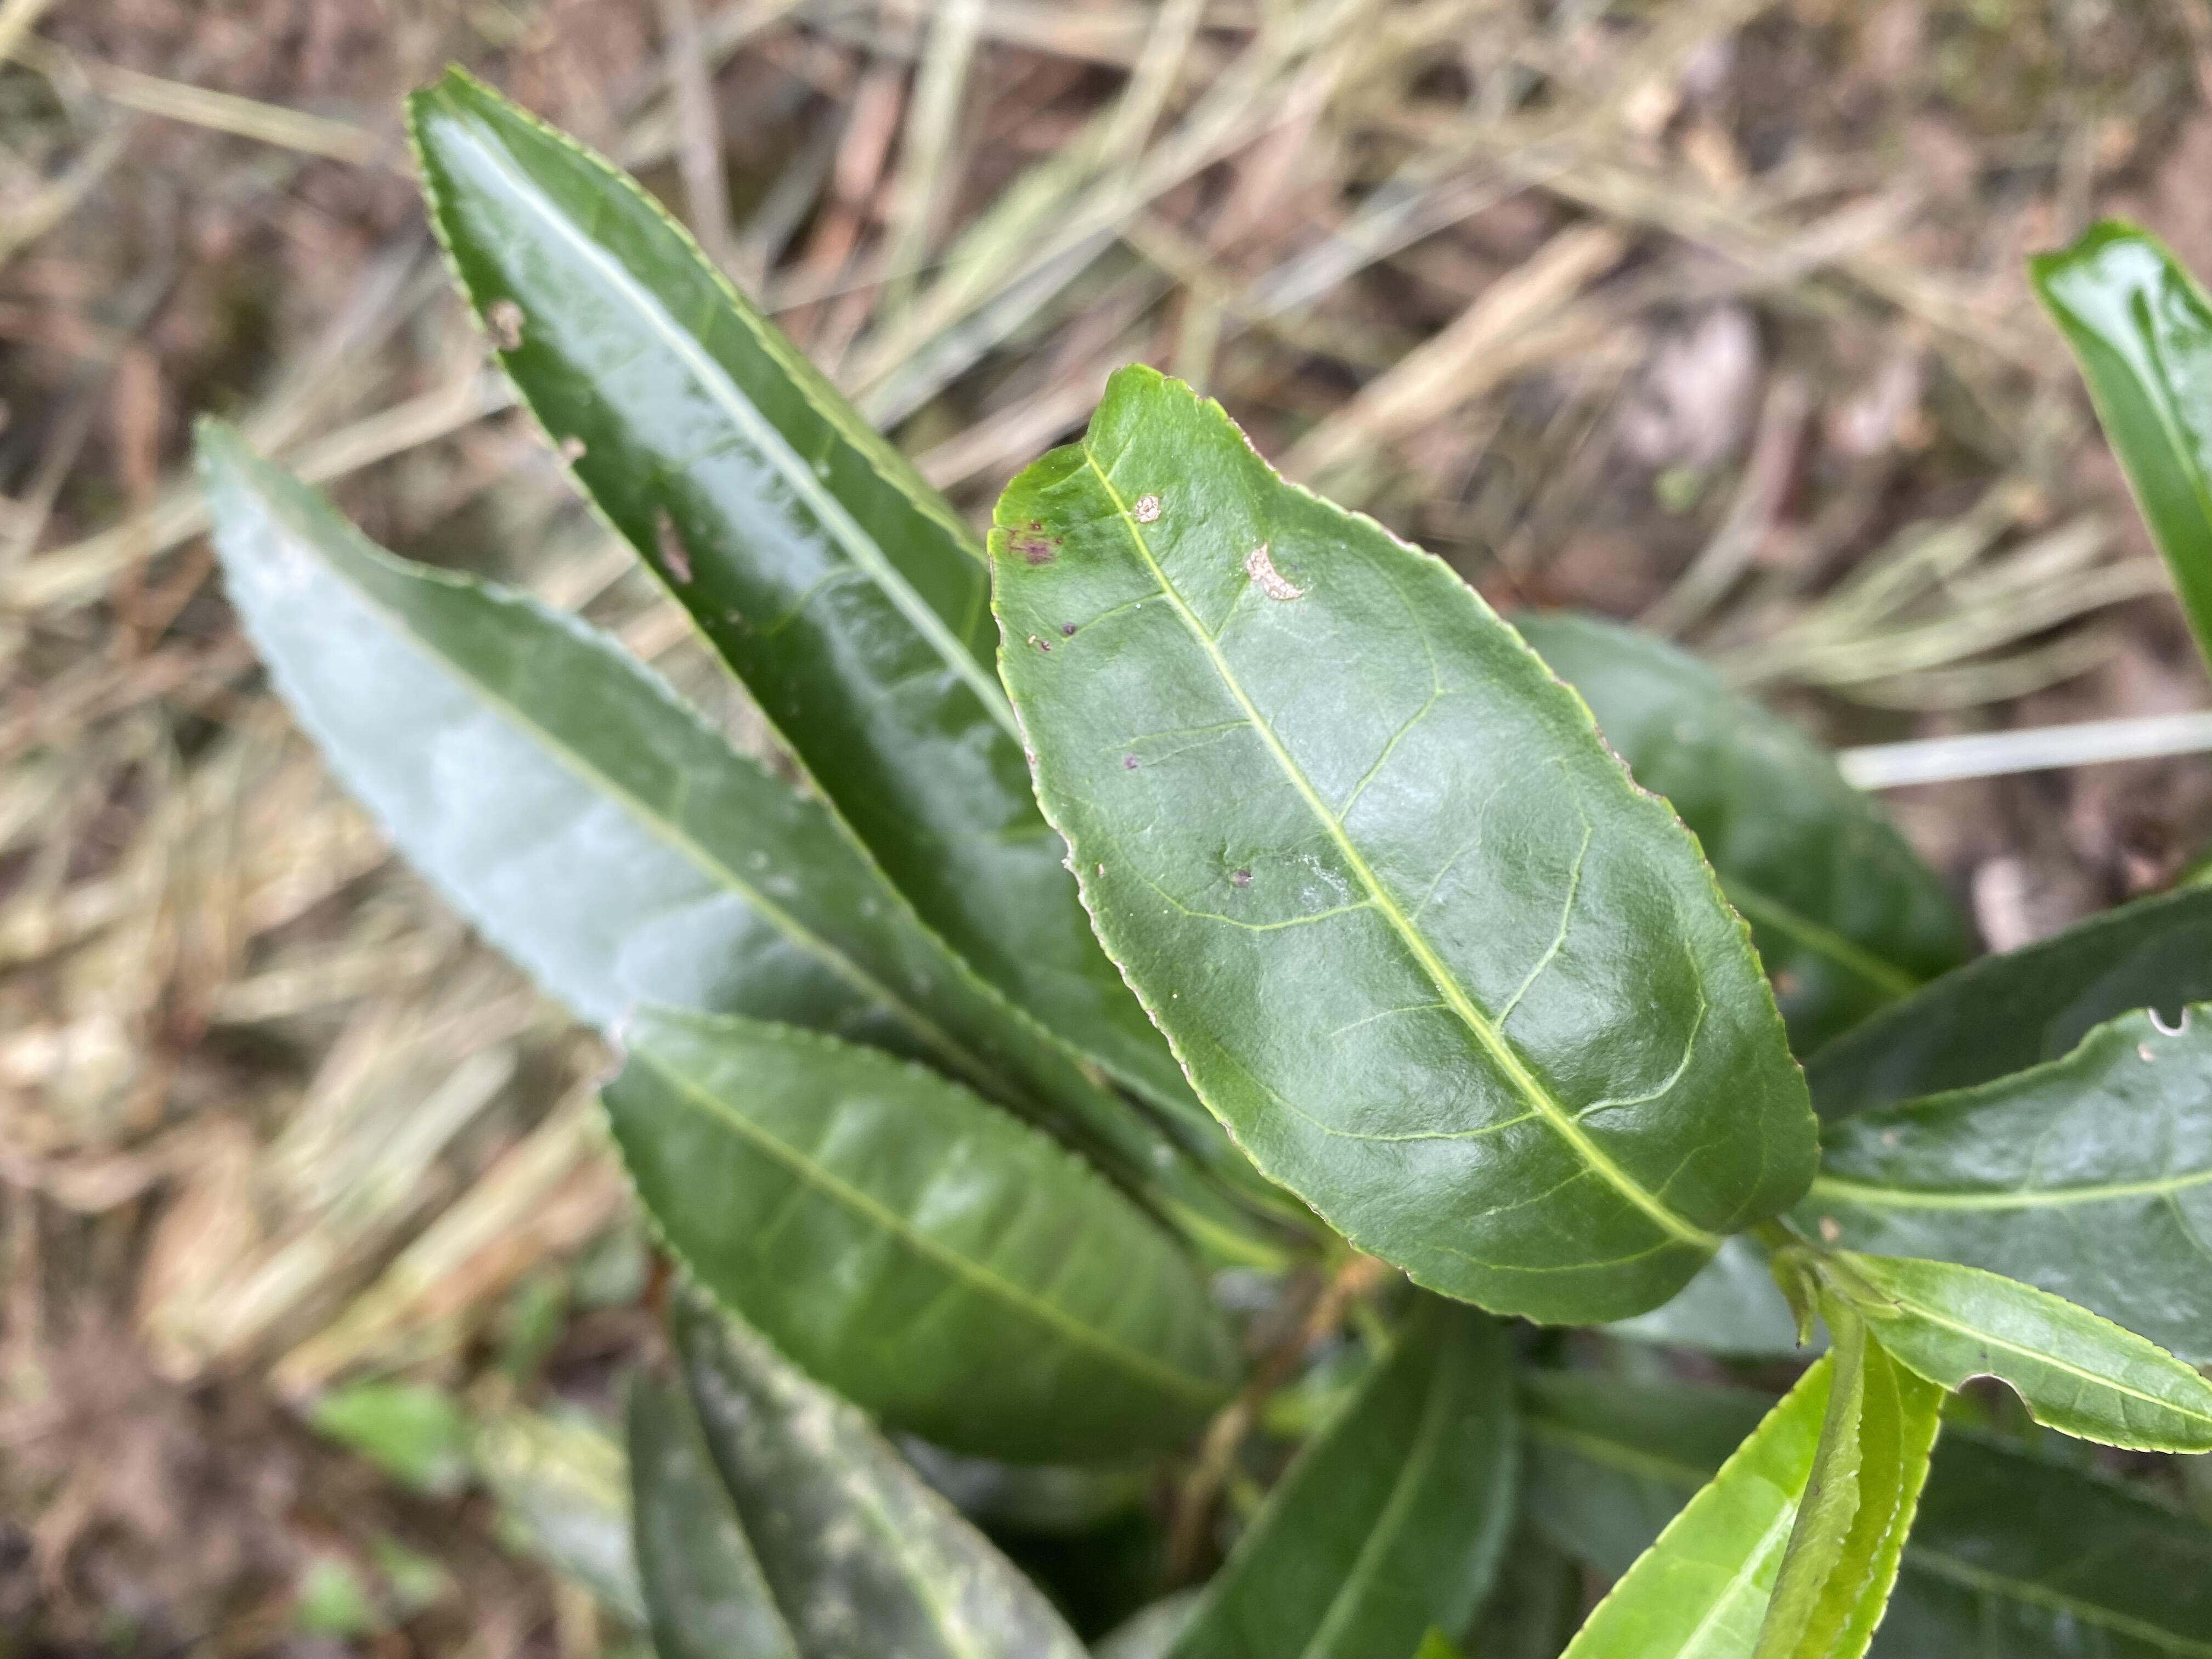chihuo_low: (1806, 1002, 2212, 1326), (1858, 1251, 2210, 1453)
